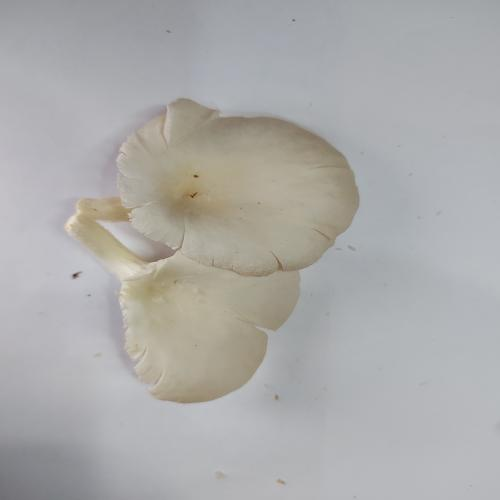Oyster Mushroom: (64, 97, 361, 404)
